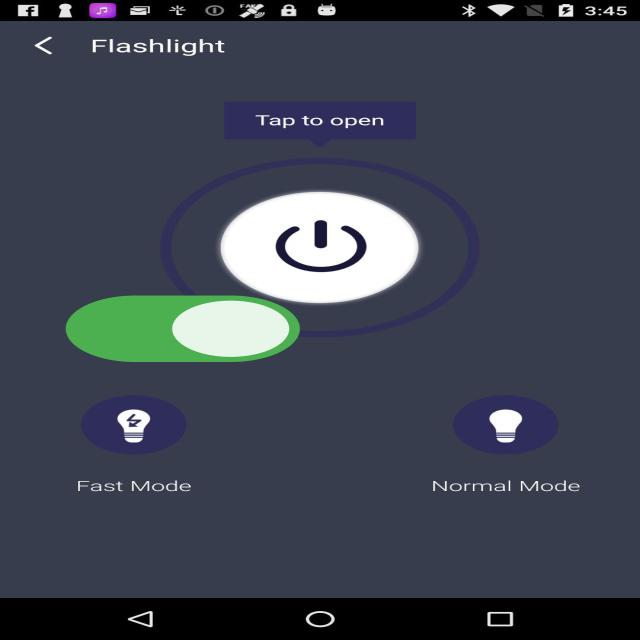social proof: (55, 270, 311, 393)
